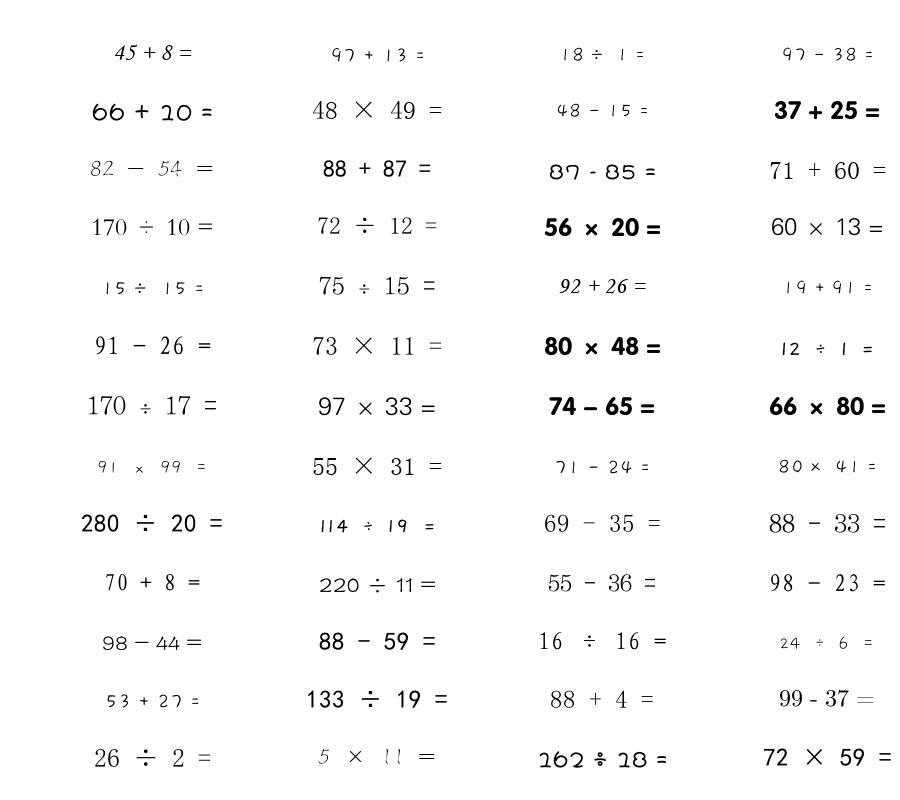MQ: (81, 514, 223, 533), (87, 395, 217, 415), (306, 690, 448, 708), (312, 336, 442, 355), (312, 101, 442, 119), (544, 217, 661, 237), (544, 336, 661, 356), (769, 396, 886, 416), (312, 457, 442, 475), (769, 513, 886, 533), (538, 632, 667, 650), (763, 748, 892, 766), (318, 397, 436, 416), (537, 751, 668, 768), (319, 276, 436, 295), (94, 336, 211, 355), (92, 103, 213, 121), (771, 217, 884, 236), (774, 100, 880, 120), (549, 396, 655, 416), (90, 160, 214, 177), (544, 514, 661, 532), (769, 574, 886, 592), (319, 632, 436, 650), (94, 749, 211, 767), (91, 219, 214, 236), (317, 217, 437, 234), (318, 748, 436, 765), (769, 162, 886, 179), (548, 574, 656, 592), (550, 690, 654, 708), (323, 160, 431, 177), (319, 578, 436, 593), (104, 573, 200, 591), (779, 689, 875, 707), (549, 164, 656, 180), (319, 519, 436, 533), (97, 460, 208, 474), (330, 47, 425, 63), (102, 636, 202, 651), (778, 459, 877, 474), (101, 282, 204, 296), (554, 460, 650, 475), (105, 694, 200, 709), (781, 47, 874, 62), (556, 103, 649, 118), (782, 280, 873, 295), (779, 636, 875, 650), (780, 342, 875, 356), (558, 279, 646, 294), (559, 47, 645, 62), (113, 44, 192, 60)
